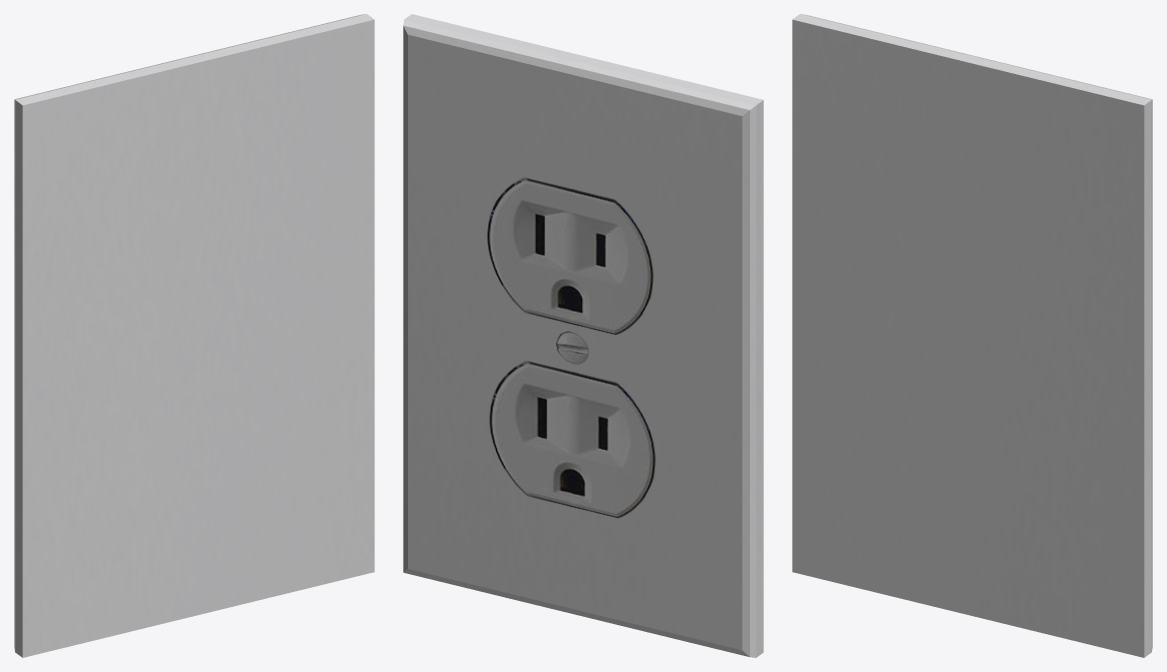
The model's file is PowerOutlet.obj.
The picture shows the model from 3 angles, left to right: view 1: azimuth 30°, elevation 25°; view 2: azimuth 150°, elevation 25°; view 3: azimuth 330°, elevation 25°; orthographic projection.
Parts seen in each view (by area): view 1: PowerOutlet_Material_001_0; view 2: PowerOutlet_Material_001_0; view 3: PowerOutlet_Material_001_0.
Boxes of the visible parts, x1,y1,x2,y2 form: PowerOutlet_Material_001_0: (14,14,374,657); PowerOutlet_Material_001_0: (403,14,763,657); PowerOutlet_Material_001_0: (792,14,1152,657).
Size of the model in its own units: 0.08 by 0.12 by 0.005.
1 material, 1 textured.
